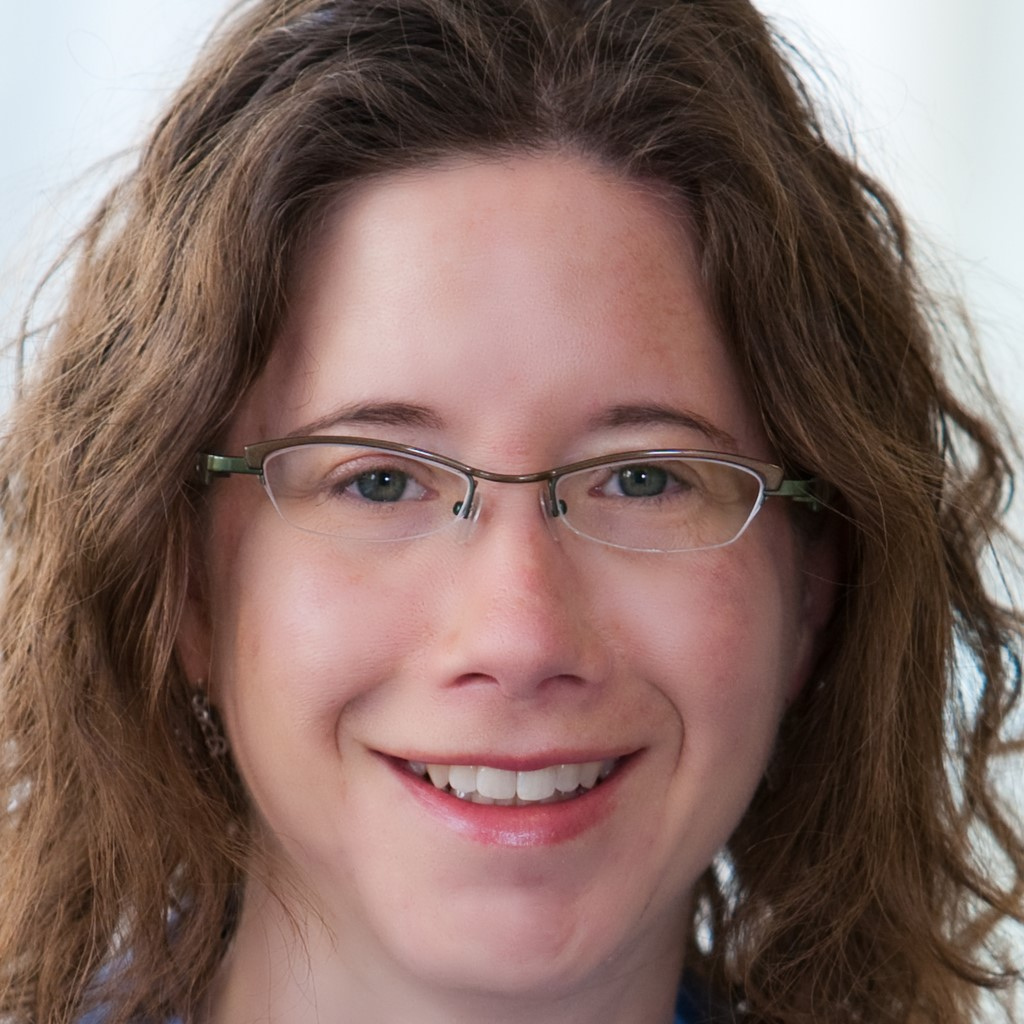sin_mascara: (202, 167, 805, 964)
